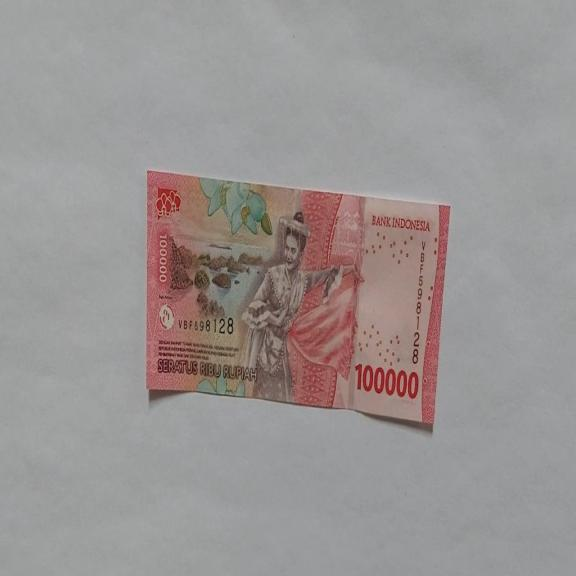Kertas: (145, 169, 451, 432), (354, 361, 419, 400)
